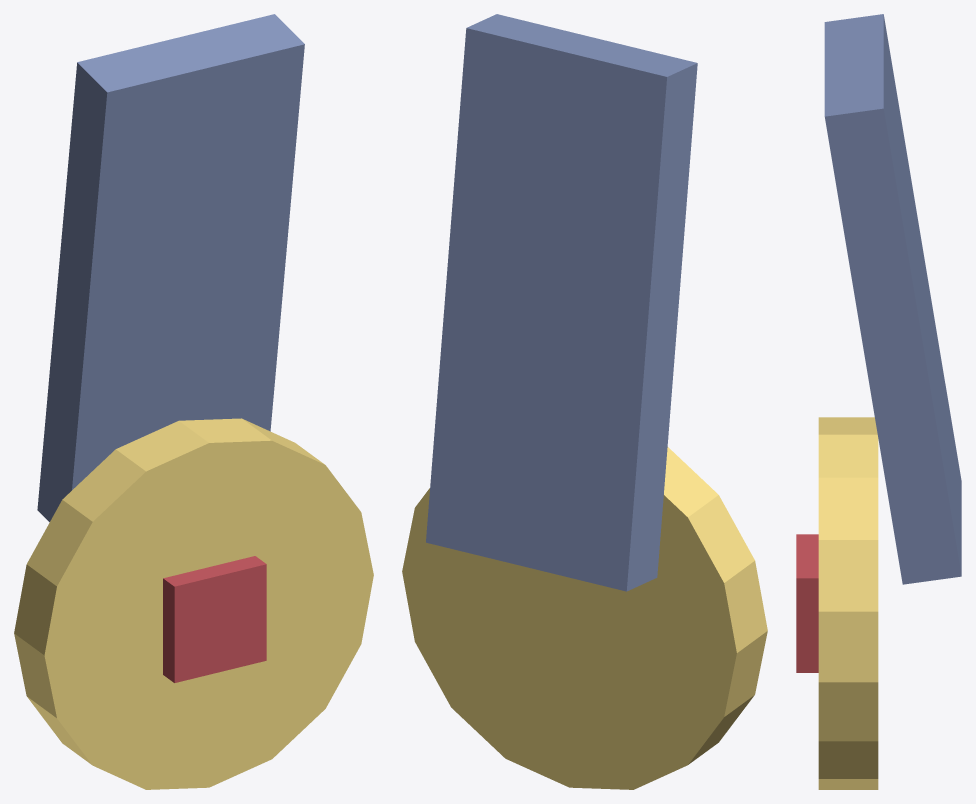
File: medal.glb
3 renders of one model, left to right at view 1: azimuth 30°, elevation 25°; view 2: azimuth 150°, elevation 25°; view 3: azimuth 270°, elevation 25°, orthographic. The views are drawn at different scales.
Visible parts, largest first — view 1: band.003, orden, stern.001; view 2: band.003, orden; view 3: band.003, orden, stern.001.
Part boxes in pixels (bbox=[...]): band.003: bbox=[37, 14, 304, 522]; orden: bbox=[14, 418, 373, 789]; stern.001: bbox=[163, 556, 266, 682]; band.003: bbox=[426, 14, 697, 591]; orden: bbox=[402, 447, 767, 789]; band.003: bbox=[824, 14, 961, 584]; orden: bbox=[818, 417, 878, 789]; stern.001: bbox=[796, 534, 818, 672].
Bounding box in the file's own units: 0.05 × 0.1052 × 0.0222.
